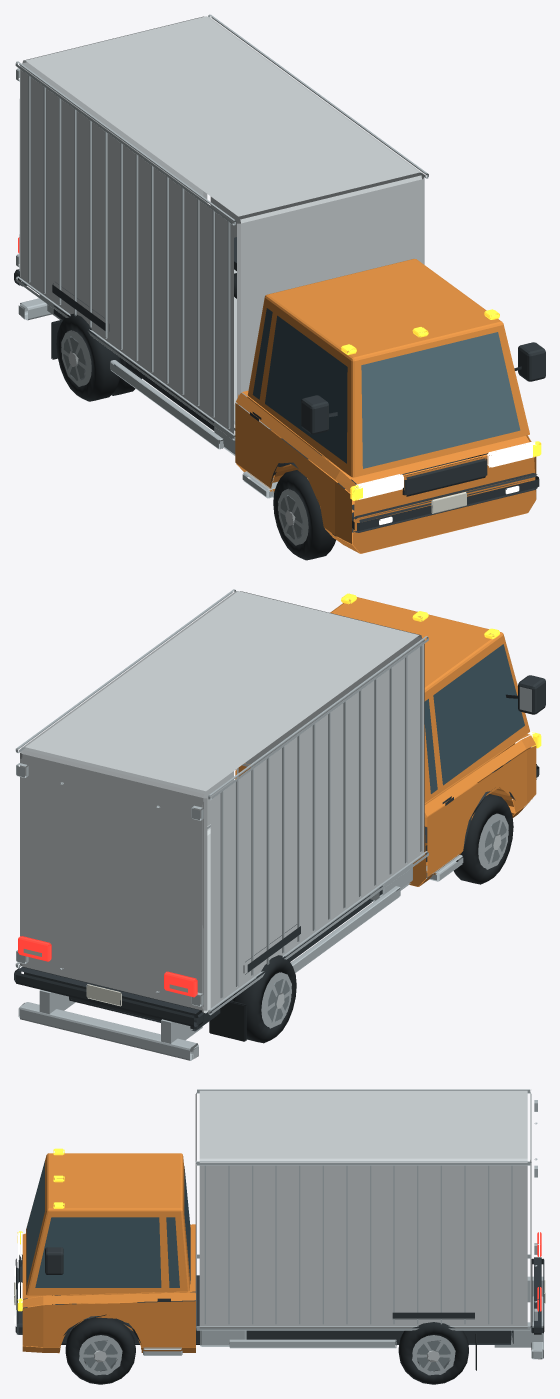
Rendered from truck.glb.
3 renders of one model, top to bottom at view 1: azimuth 30°, elevation 25°; view 2: azimuth 150°, elevation 25°; view 3: azimuth 270°, elevation 25°, orthographic. The views are drawn at different scales.
Parts seen in each view (by area): view 1: BodyMesh_Cargo_PearlGray, ShapeSafe_BodyMesh_Paint_TruckOrange, BodyMesh_Metal_SatinAluminum, BodyMesh_Paint_TruckOrange, ShapeSafe_BodyMesh_Glass_Reflection, ShapeSafe_BodyMesh_Glass_StylizedOpaque, BodyMesh_Trim_Graphite, Wheel_RR.006_Mesh_Rubber_Tires, Wheel_FR.006_Mesh_Rubber_Tires, ShapeSafe_BodyMesh_Trim_Graphite, Wheel_RR.006_Mesh_Metal_SatinAluminum, Wheel_FR.006_Mesh_Metal_SatinAluminum (+2 smaller); view 2: BodyMesh_Cargo_PearlGray, BodyMesh_Metal_SatinAluminum, ShapeSafe_BodyMesh_Glass_StylizedOpaque, ShapeSafe_BodyMesh_Paint_TruckOrange, BodyMesh_Paint_TruckOrange, BodyMesh_Trim_Graphite, Wheel_FR.006_Mesh_Rubber_Tires, Wheel_RR.006_Mesh_Rubber_Tires, BodyMesh_Rubber_Tires, Wheel_FR.006_Mesh_Metal_SatinAluminum, Wheel_RR.006_Mesh_Metal_SatinAluminum, ShapeSafe_BodyMesh_Trim_Graphite (+5 smaller); view 3: BodyMesh_Cargo_PearlGray, ShapeSafe_BodyMesh_Paint_TruckOrange, BodyMesh_Metal_SatinAluminum, ShapeSafe_BodyMesh_Glass_StylizedOpaque, BodyMesh_Paint_TruckOrange, BodyMesh_Trim_Graphite, Wheel_FL.006_Mesh_Rubber_Tires, Wheel_RL.006_Mesh_Rubber_Tires, ShapeSafe_BodyMesh_Glass_Reflection, Wheel_FL.006_Mesh_Metal_SatinAluminum, Wheel_RL.006_Mesh_Metal_SatinAluminum, Wheel_RL.006_Mesh_Brake_Disc (+3 smaller).
Part boxes in pixels (x1=…): BodyMesh_Cargo_PearlGray: x1=19, y1=16, x2=424, y2=434; ShapeSafe_BodyMesh_Paint_TruckOrange: x1=247, y1=259, x2=529, y2=477; BodyMesh_Metal_SatinAluminum: x1=15, y1=14, x2=428, y2=498; BodyMesh_Paint_TruckOrange: x1=235, y1=390, x2=536, y2=553; ShapeSafe_BodyMesh_Glass_Reflection: x1=361, y1=332, x2=520, y2=468; ShapeSafe_BodyMesh_Glass_StylizedOpaque: x1=252, y1=308, x2=347, y2=463; BodyMesh_Trim_Graphite: x1=14, y1=237, x2=539, y2=532; Wheel_RR.006_Mesh_Rubber_Tires: x1=56, y1=313, x2=141, y2=401; Wheel_FR.006_Mesh_Rubber_Tires: x1=273, y1=470, x2=336, y2=560; ShapeSafe_BodyMesh_Trim_Graphite: x1=301, y1=342, x2=545, y2=434; Wheel_RR.006_Mesh_Metal_SatinAluminum: x1=61, y1=330, x2=91, y2=386; Wheel_FR.006_Mesh_Metal_SatinAluminum: x1=278, y1=488, x2=308, y2=545; BodyMesh_Cargo_PearlGray: x1=20, y1=591, x2=424, y2=1013; BodyMesh_Metal_SatinAluminum: x1=15, y1=589, x2=531, y2=1060; ShapeSafe_BodyMesh_Glass_StylizedOpaque: x1=424, y1=644, x2=524, y2=793; ShapeSafe_BodyMesh_Paint_TruckOrange: x1=330, y1=597, x2=529, y2=804; BodyMesh_Paint_TruckOrange: x1=235, y1=734, x2=536, y2=886; BodyMesh_Trim_Graphite: x1=14, y1=694, x2=539, y2=1031; Wheel_FR.006_Mesh_Rubber_Tires: x1=454, y1=794, x2=513, y2=884; Wheel_RR.006_Mesh_Rubber_Tires: x1=228, y1=955, x2=296, y2=1043; BodyMesh_Rubber_Tires: x1=209, y1=999, x2=246, y2=1041; Wheel_FR.006_Mesh_Metal_SatinAluminum: x1=478, y1=813, x2=508, y2=869; Wheel_RR.006_Mesh_Metal_SatinAluminum: x1=261, y1=972, x2=291, y2=1028; ShapeSafe_BodyMesh_Trim_Graphite: x1=518, y1=675, x2=545, y2=714; BodyMesh_Cargo_PearlGray: x1=195, y1=1090, x2=531, y2=1328; ShapeSafe_BodyMesh_Paint_TruckOrange: x1=26, y1=1153, x2=189, y2=1295; BodyMesh_Metal_SatinAluminum: x1=143, y1=1089, x2=543, y2=1359; ShapeSafe_BodyMesh_Glass_StylizedOpaque: x1=35, y1=1166, x2=190, y2=1287; BodyMesh_Paint_TruckOrange: x1=22, y1=1224, x2=195, y2=1353; BodyMesh_Trim_Graphite: x1=15, y1=1254, x2=544, y2=1344; Wheel_FL.006_Mesh_Rubber_Tires: x1=65, y1=1317, x2=135, y2=1384; Wheel_RL.006_Mesh_Rubber_Tires: x1=398, y1=1322, x2=468, y2=1384; ShapeSafe_BodyMesh_Glass_Reflection: x1=26, y1=1161, x2=44, y2=1285; Wheel_FL.006_Mesh_Metal_SatinAluminum: x1=79, y1=1335, x2=122, y2=1375; Wheel_RL.006_Mesh_Metal_SatinAluminum: x1=412, y1=1335, x2=455, y2=1375; Wheel_RL.006_Mesh_Brake_Disc: x1=417, y1=1340, x2=450, y2=1371.
Bounding box in the file's own units: 2.8 × 3.32 × 7.12.
